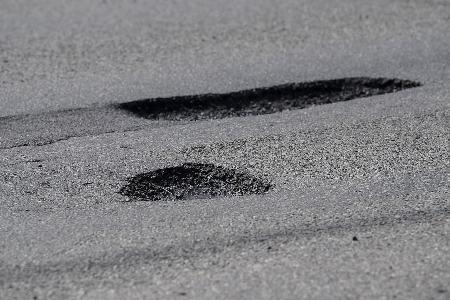pothole: (114, 76, 425, 124), (118, 163, 275, 206)
